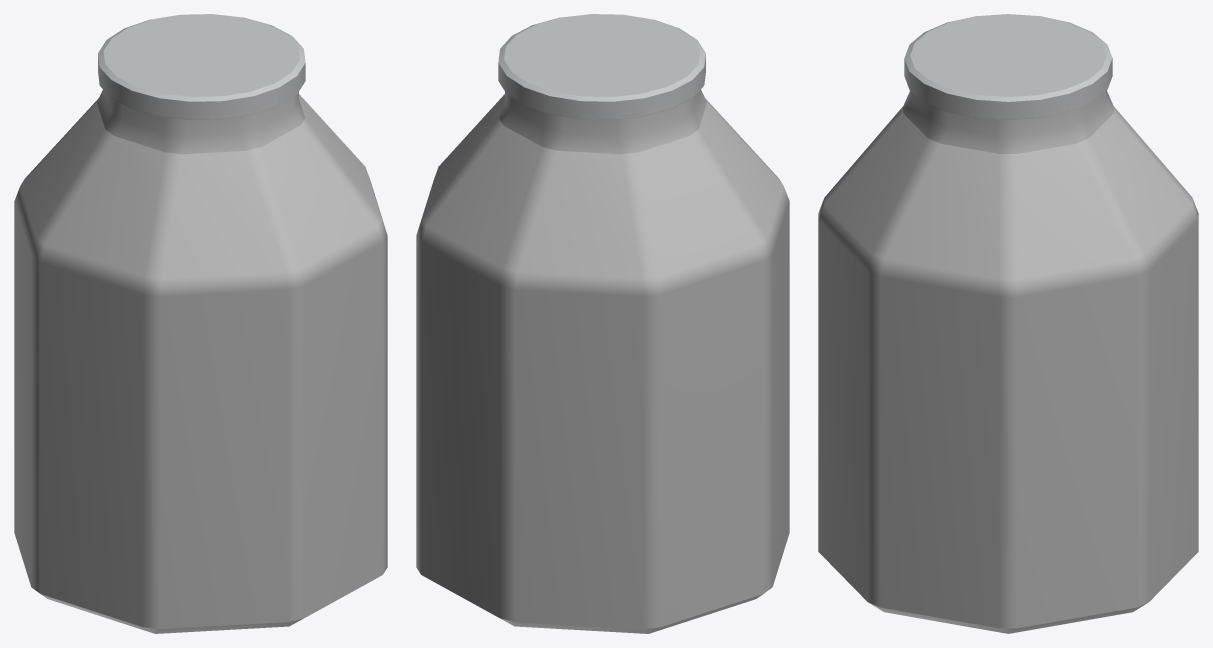
The model's file is mp-sauce.glb.
3 views of the same model, side by side, from view 1: azimuth 30°, elevation 25°; view 2: azimuth 150°, elevation 25°; view 3: azimuth 270°, elevation 25° (orthographic).
Parts seen in each view (by area): view 1: Glass_bottle.001; view 2: Glass_bottle.001; view 3: Glass_bottle.001.
Part boxes in pixels (<box>): Glass_bottle.001: <box>14,14,387,633</box>; Glass_bottle.001: <box>416,14,789,633</box>; Glass_bottle.001: <box>818,14,1198,633</box>.
Size of the model in its own units: 0.1298 by 0.19 by 0.1298.
Materials: 1 (1 with a texture image).
